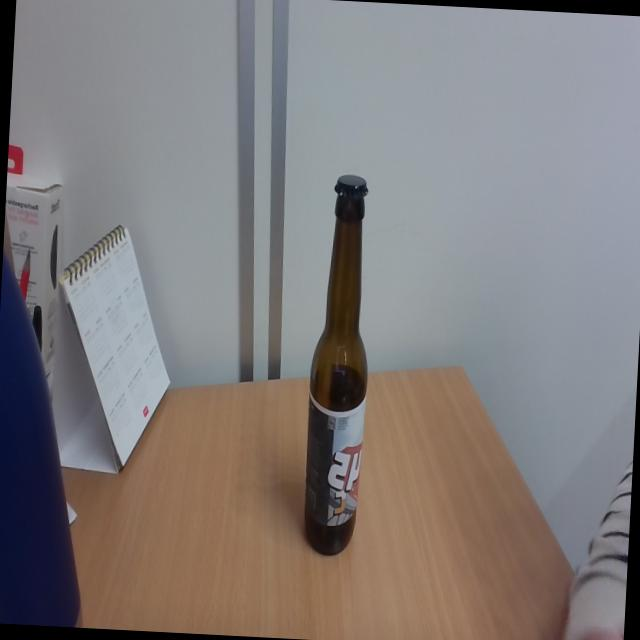Bottle: (299, 171, 379, 558)
Cap: (332, 172, 372, 201)
Label: (302, 401, 366, 528)
